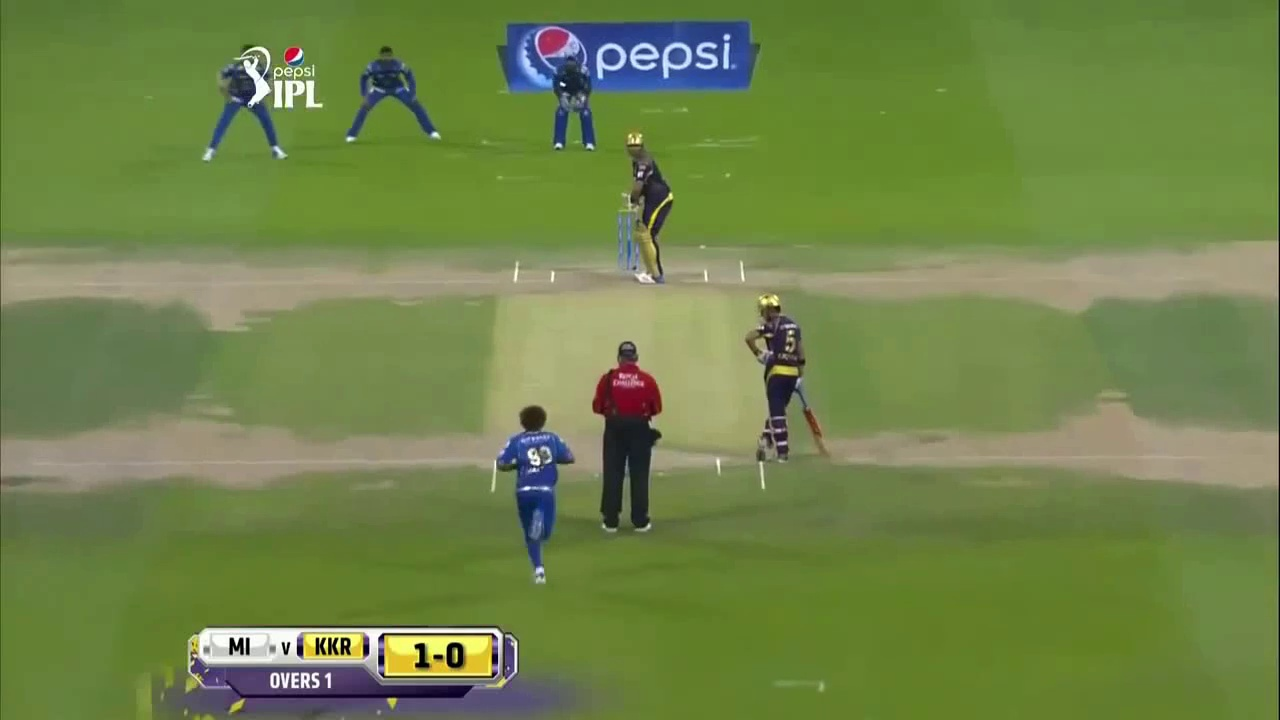bat: (793, 380, 839, 464)
pitch: (463, 222, 818, 503)
